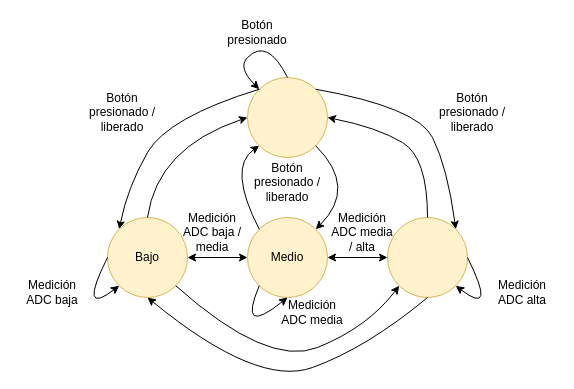
This 574x389 diagram has some shape labels left out. The shapes that lost their labels are listed below. From the top down, each one's centre as x and y in pixels, then its label:
At [287,117]: "Parada".
At [427,257]: "Alto".
